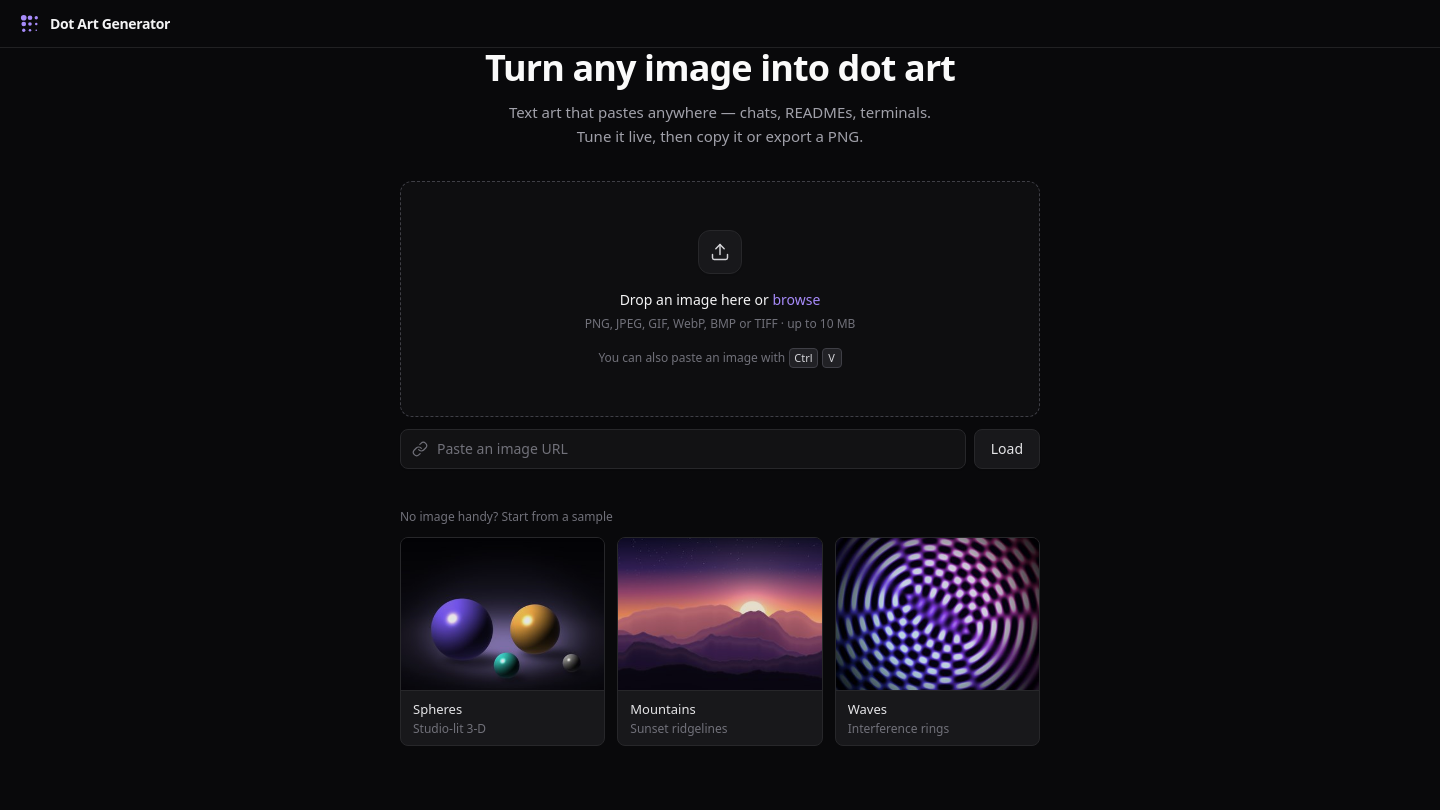
generation › an error can be dismissed
(page scrolled)
Click the button "Spheres Studio-lit 3-D".
click(503, 642)  # box [400,537,605,746]
(page scrolled)
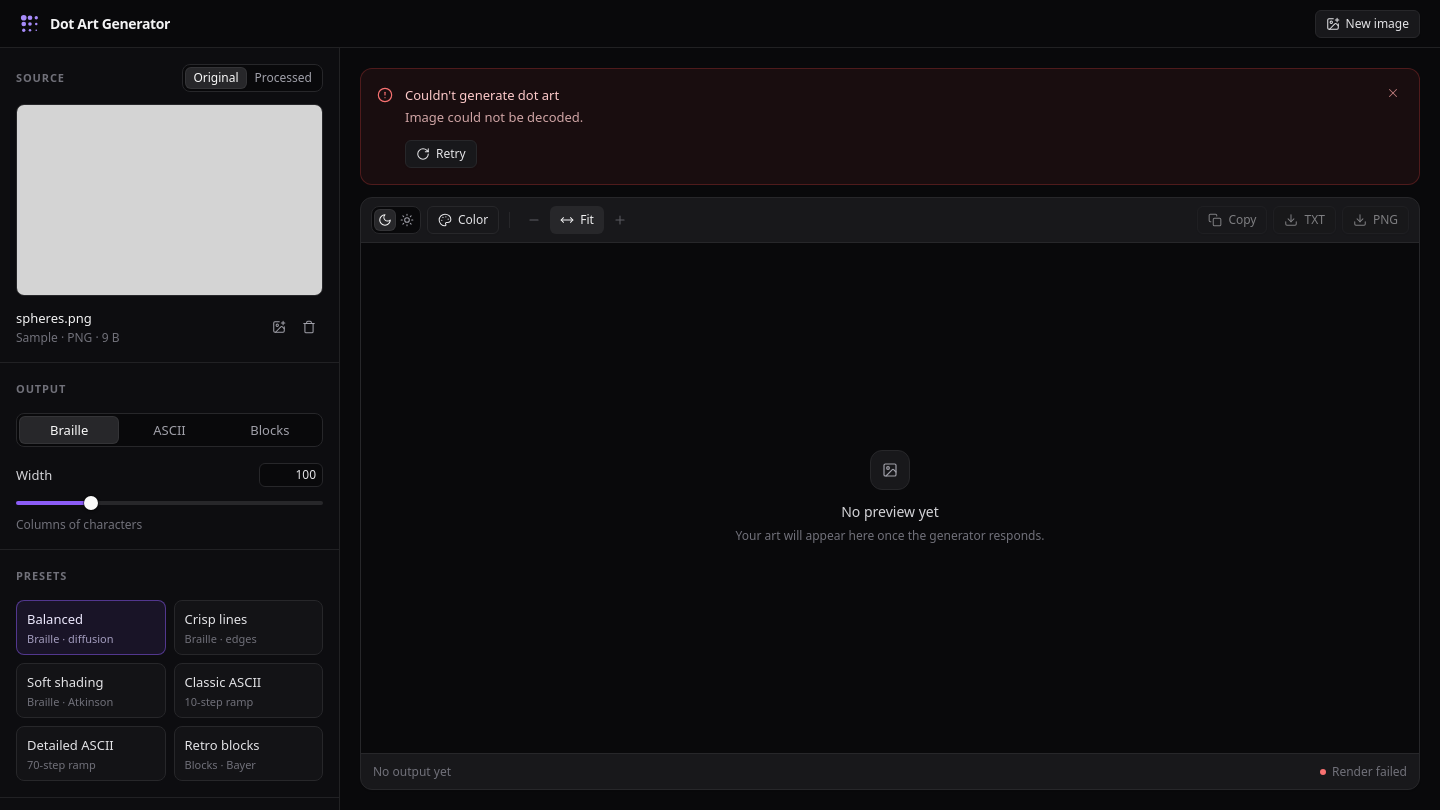
Click the button named "dismiss".
click(1393, 93)  # box [1379,79,1407,107]
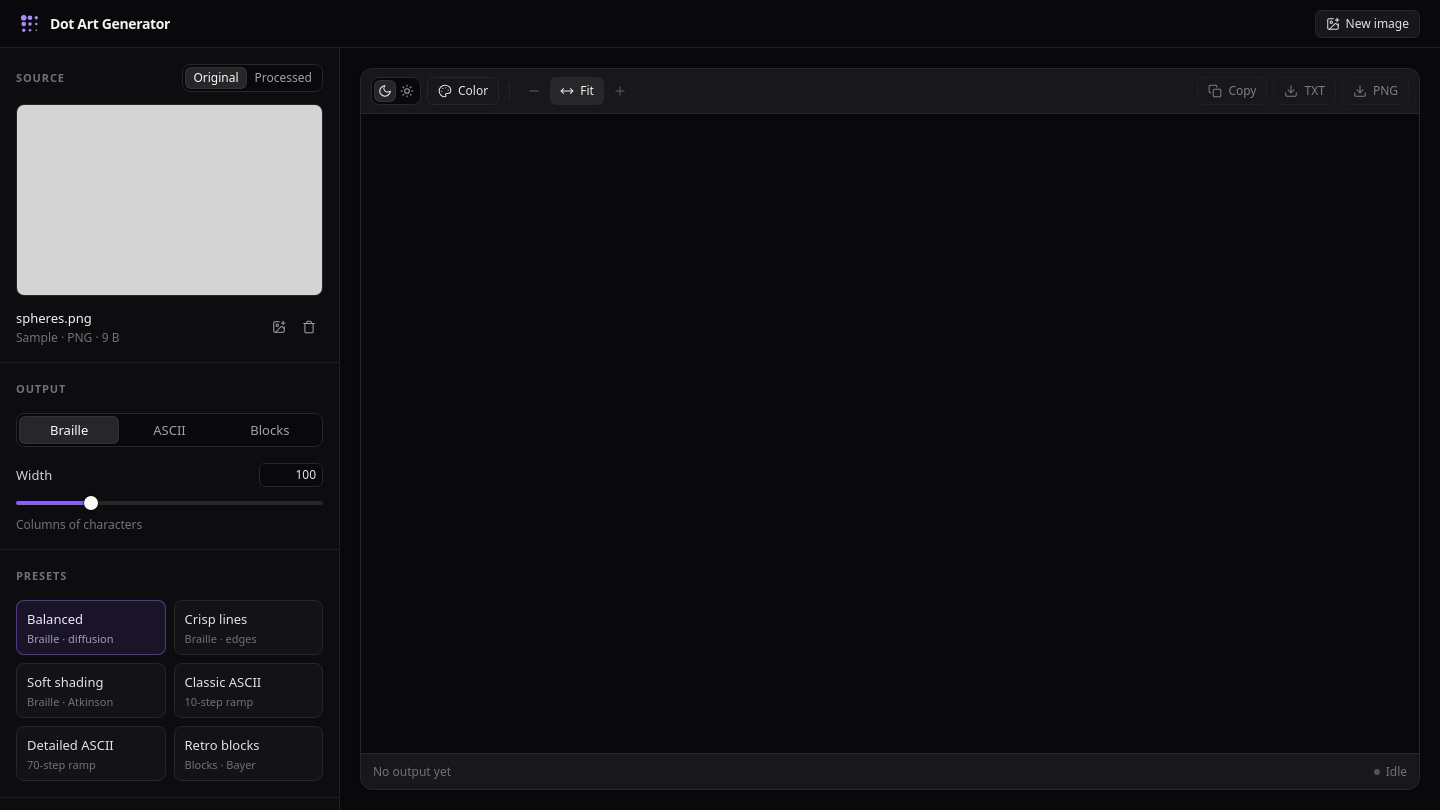
Expected: the message "Couldn't generate dot art Image could not be decoded. Retry" is gone
